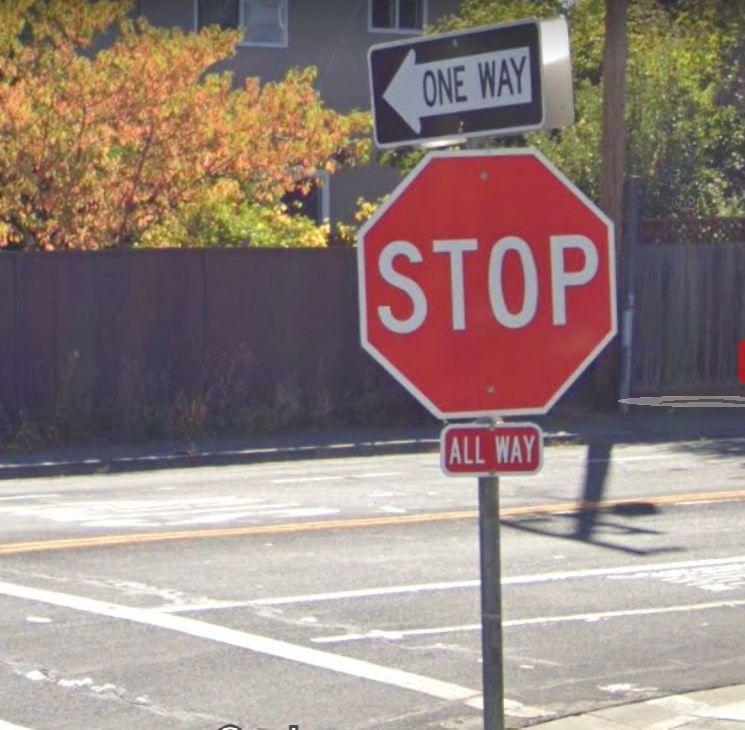stop_sign: (359, 155, 616, 415)
